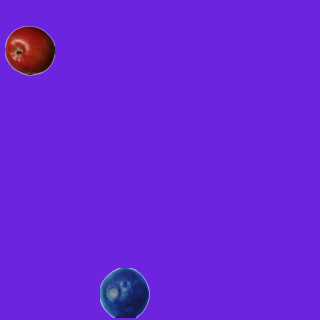Apple Braeburn: (4, 25, 54, 75)
Huckleberry: (99, 267, 149, 317)
